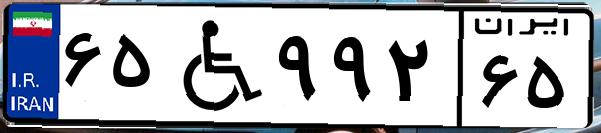2: (385, 28, 445, 110)
5: (525, 38, 570, 115), (110, 28, 158, 98)
6: (57, 26, 110, 100), (475, 38, 525, 113)
9: (270, 28, 330, 110), (330, 28, 385, 110)
ژ (معلولین و جانبازان): (158, 12, 270, 120)
